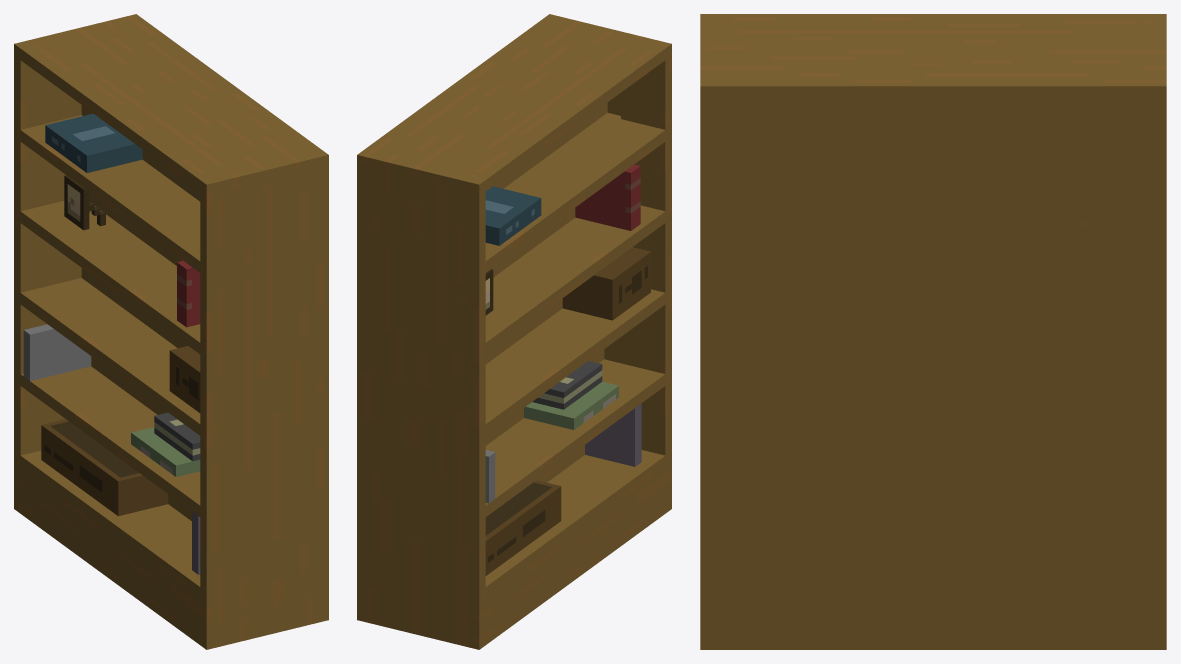
The model's file is bookshelf2.obj.
3 views of the same model, side by side, from view 1: azimuth 30°, elevation 25°; view 2: azimuth 150°, elevation 25°; view 3: azimuth 270°, elevation 25° (orthographic). The views are drawn at different scales.
Bounding box in the file's own units: 2.2 × 8 × 6.
1 material, 1 textured.
